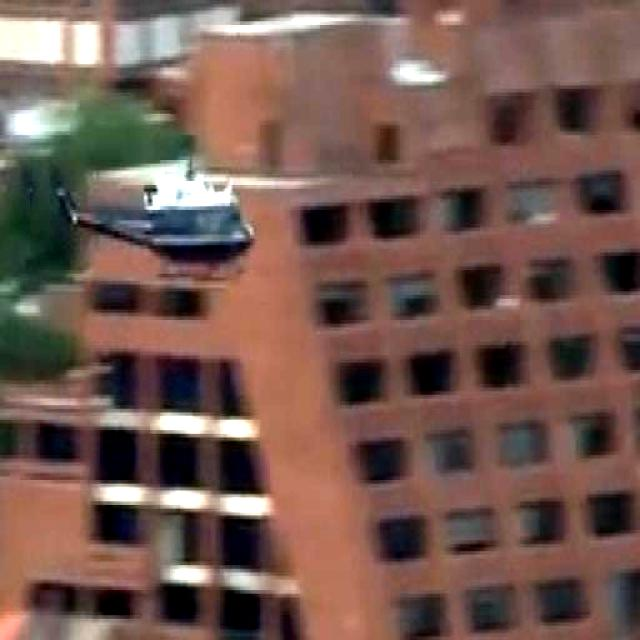drone: (56, 131, 260, 288)
